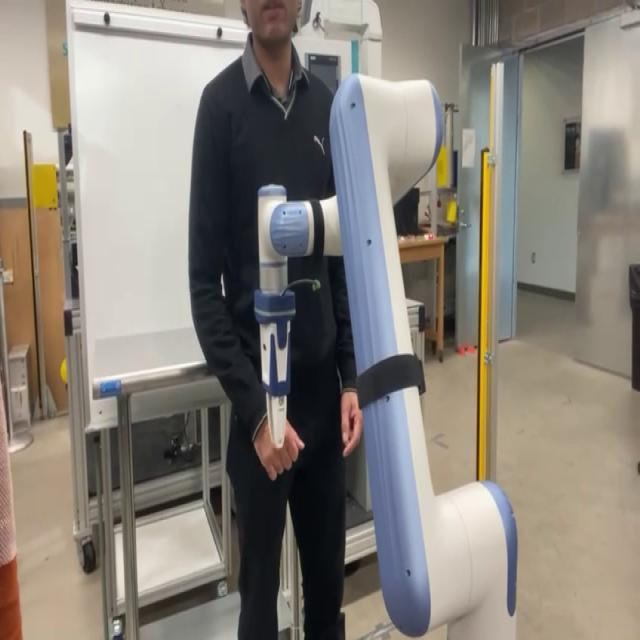human: (187, 0, 363, 637)
robot: (253, 70, 518, 638)
